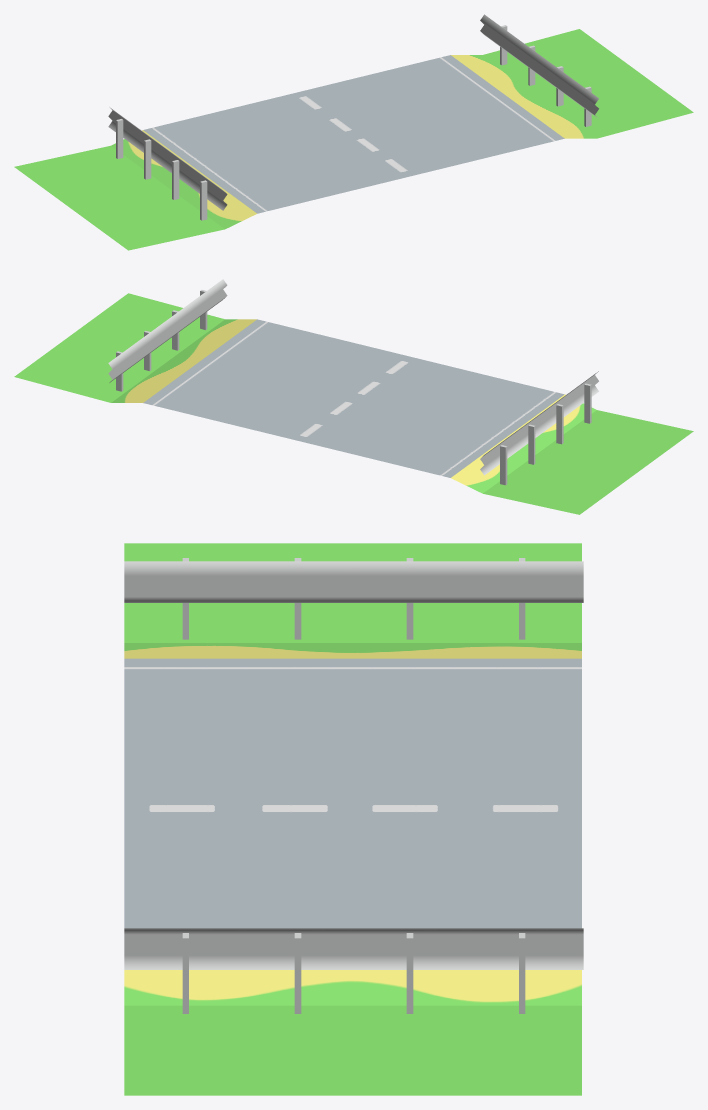
The model's file is Road.glb.
3 views of the same model, one above another, from view 1: azimuth 30°, elevation 25°; view 2: azimuth 150°, elevation 25°; view 3: azimuth 270°, elevation 25° (orthographic). The views are drawn at different scales.
Parts seen in each view (by area): view 1: Plane; view 2: Plane; view 3: Plane.
Boxes of the visible parts, left/top/right/bottom form: Plane: left=14, top=14, right=693, bottom=250; Plane: left=14, top=279, right=693, bottom=514; Plane: left=124, top=543, right=583, bottom=1095.
Bounding box in the file's own units: 57.11 × 3.84 × 20.09.
Materials: 1 (1 with a texture image).
